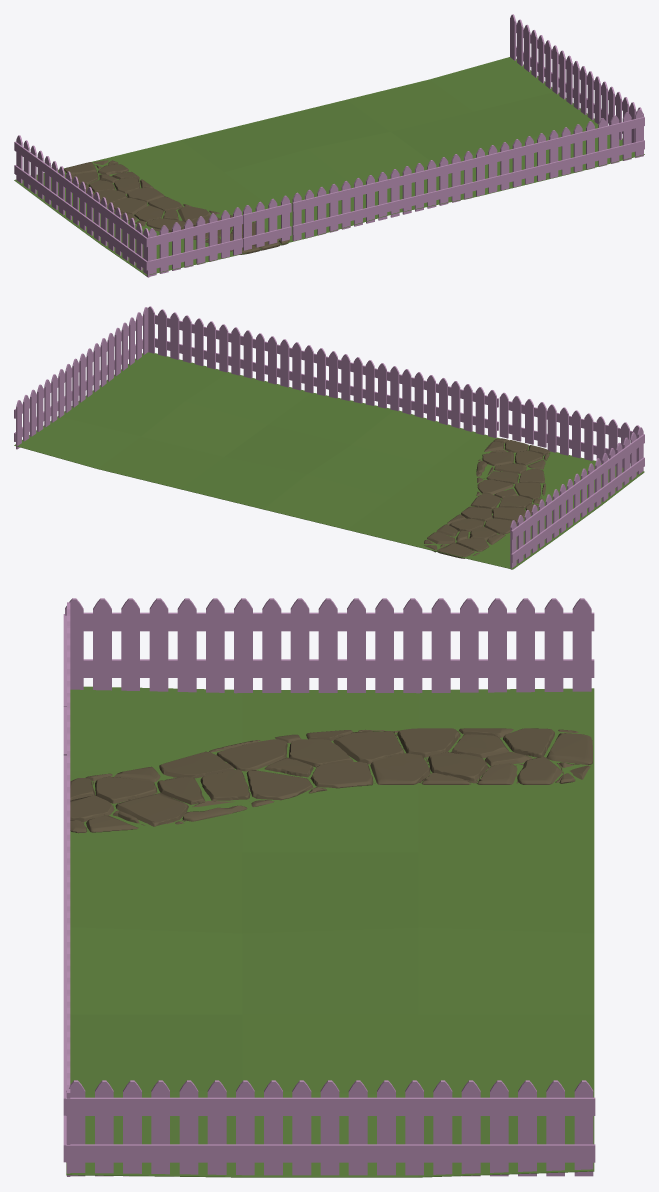
The model's file is dis_cephe.fbx.
3 views of the same model, one above another, from view 1: azimuth 30°, elevation 25°; view 2: azimuth 150°, elevation 25°; view 3: azimuth 270°, elevation 25° (orthographic). The views are drawn at different scales.
Visible parts, largest first — view 1: dis_cephe, cit3, cit1, cit4, döseme_tas, cit2, bahce_kapi; view 2: dis_cephe, cit3, döseme_tas, cit1, cit4, cit2, bahce_kapi; view 3: dis_cephe, cit4, cit1, döseme_tas, cit3.
Boxes of the visible parts, box(x1,y1,x2,y2) form: dis_cephe: box(14, 57, 644, 275); cit3: box(292, 109, 644, 240); cit1: box(14, 135, 149, 277); cit4: box(510, 14, 644, 156); döseme_tas: box(64, 160, 289, 254); cit2: box(148, 207, 242, 276); bahce_kapi: box(243, 195, 291, 250); dis_cephe: box(14, 352, 644, 569); cit3: box(148, 306, 498, 437); döseme_tas: box(424, 438, 550, 558); cit1: box(510, 427, 644, 569); cit4: box(14, 307, 148, 449); cit2: box(547, 404, 639, 467); bahce_kapi: box(499, 392, 547, 447); dis_cephe: box(66, 686, 594, 1177); cit4: box(66, 1080, 595, 1176); cit1: box(65, 598, 594, 693); döseme_tas: box(70, 728, 592, 833); cit3: box(63, 744, 70, 1176).
Bounding box in the file's own units: 1762 × 167 × 813.
